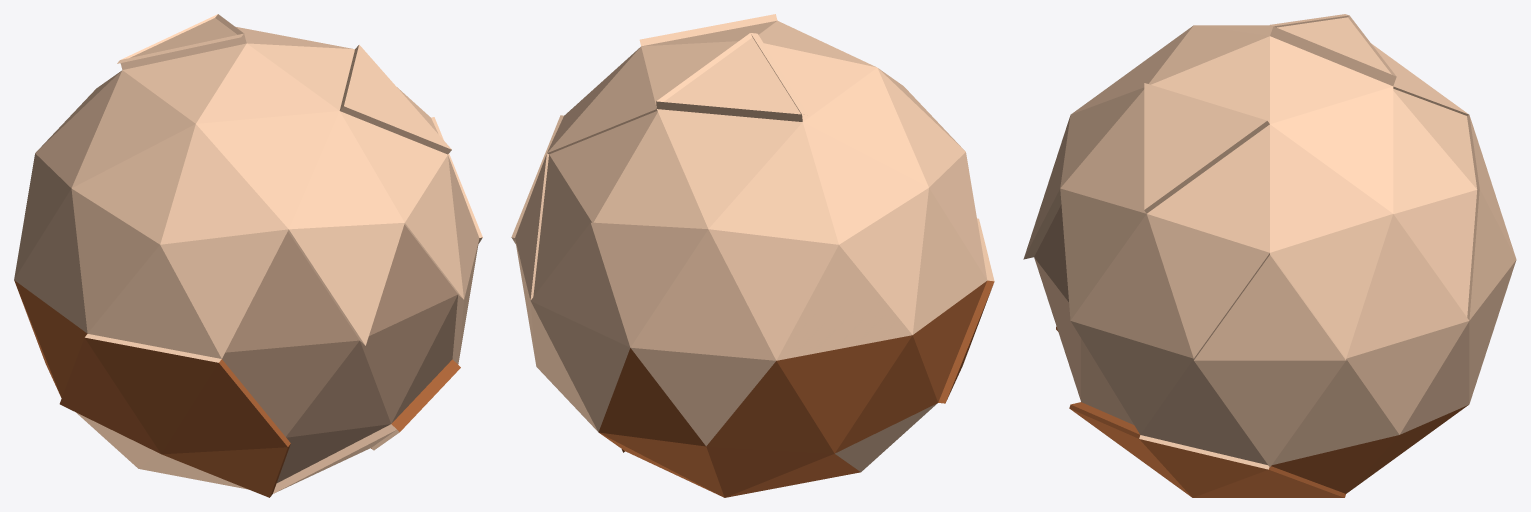
The model's file is Pluto.fbx.
3 renders of one model, left to right at view 1: azimuth 30°, elevation 25°; view 2: azimuth 150°, elevation 25°; view 3: azimuth 270°, elevation 25°, orthographic. The views are drawn at different scales.
Visible parts, largest first — view 1: Icosphere.003; view 2: Icosphere.003; view 3: Icosphere.003.
Boxes of the visible parts, box(x1,y1,x2,y2) form: Icosphere.003: box(14, 14, 482, 497); Icosphere.003: box(511, 14, 994, 497); Icosphere.003: box(1023, 14, 1516, 497).
Bounding box in the file's own units: 6.72 × 7.06 × 6.92.
